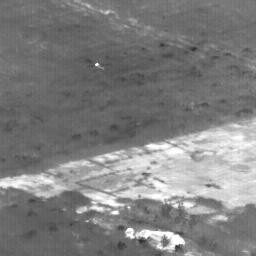aircraft: (96, 64, 98, 66)
